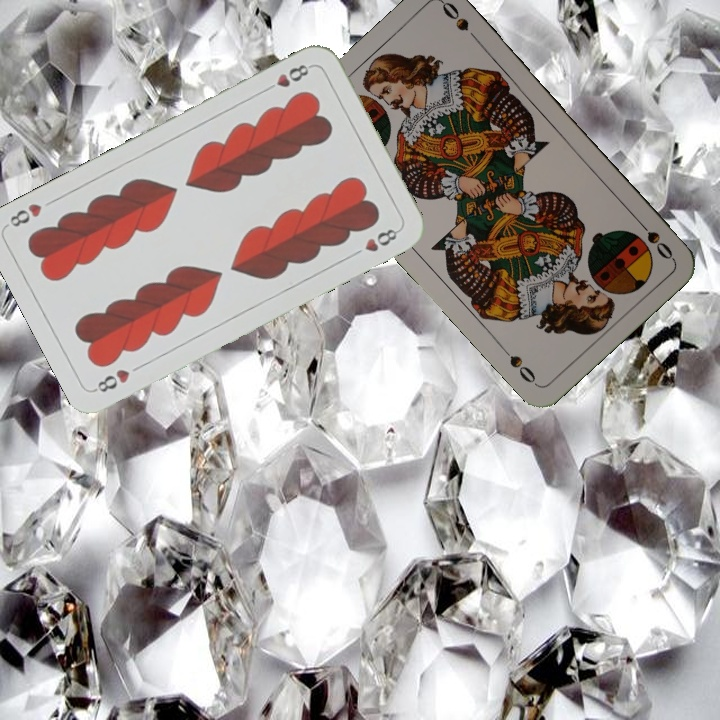H8: (260, 60, 315, 95), (90, 365, 133, 395)
SO: (631, 213, 676, 263)
